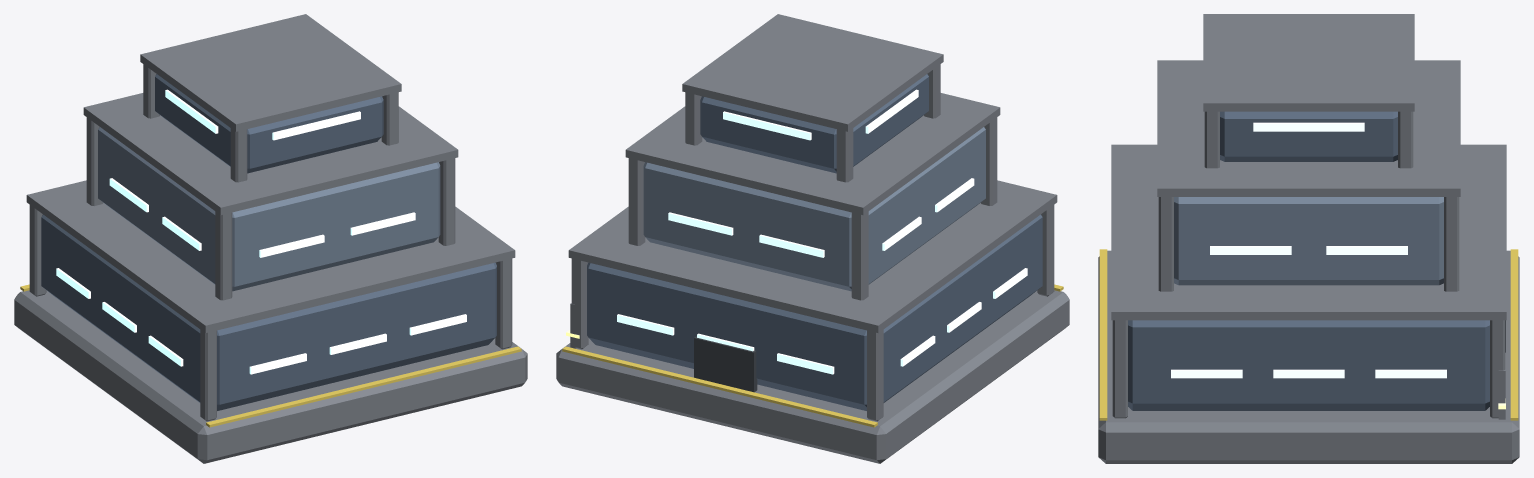
The model's file is zone_high_1_t1.glb.
The picture shows the model from 3 angles, left to right: view 1: azimuth 30°, elevation 25°; view 2: azimuth 150°, elevation 25°; view 3: azimuth 270°, elevation 25°; orthographic projection. The views are drawn at different scales.
Parts seen in each view (by area): view 1: zone_high_1_t1, detail; view 2: zone_high_1_t1, detail; view 3: zone_high_1_t1, detail.
Boxes of the visible parts, bbox=[...] form: zone_high_1_t1: bbox=[14, 14, 527, 463]; detail: bbox=[20, 284, 521, 427]; zone_high_1_t1: bbox=[556, 14, 1069, 463]; detail: bbox=[562, 284, 1063, 427]; zone_high_1_t1: bbox=[1098, 14, 1519, 463]; detail: bbox=[1099, 249, 1518, 420].
Size of the model in its own units: 27.5 by 23 by 27.5.
